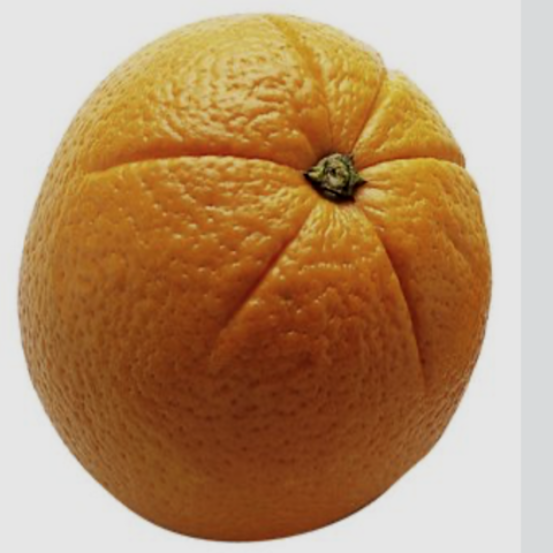orange: (1, 9, 535, 550)
